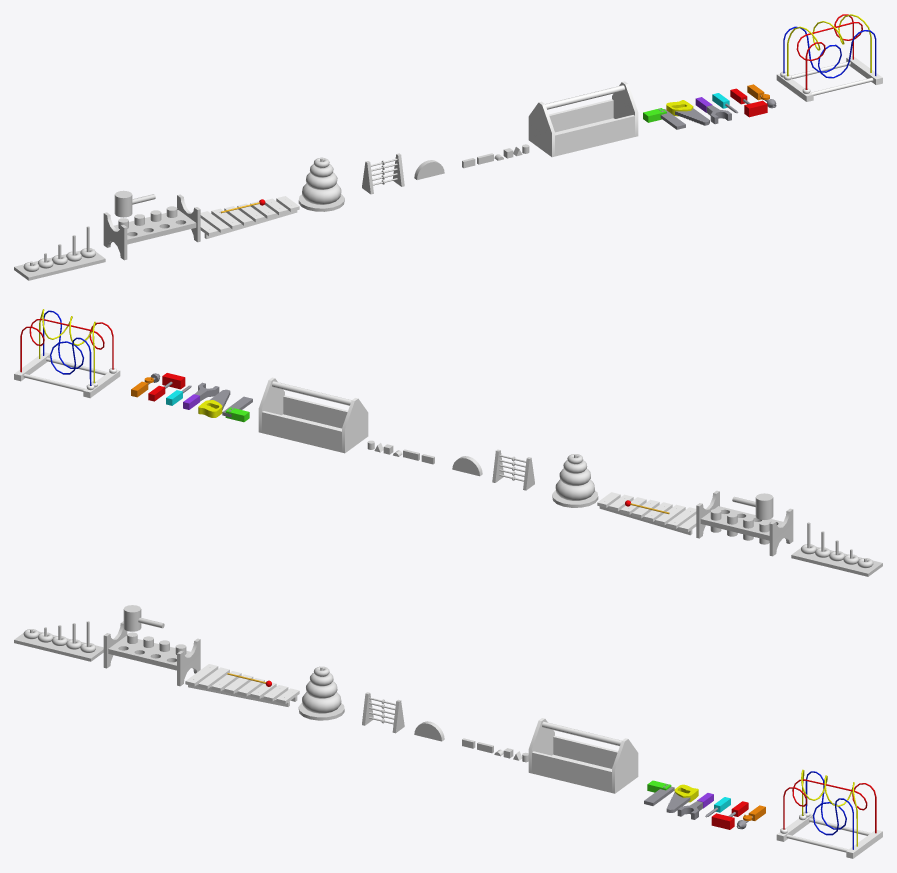
File: BabyToys_low.fbx
The picture shows the model from 3 angles, top to bottom: view 1: azimuth 30°, elevation 25°; view 2: azimuth 150°, elevation 25°; view 3: azimuth 330°, elevation 25°; orthographic projection.
Parts seen in each view (by area): view 1: Tool_Box_Parts_low, Tool_Box_low, Wire_Maze_Wires_low, Hammer_Bench_Parts_low, Hammer_Bench_low, Stacker_Small_low, Wire_Maze_low, Hammer_Bench_Hammer_low, Stacker_Large_Counter_1_low, Saw_low, Abacus_low, Wire_Maze_Parts_low; view 2: Tool_Box_Parts_low, Tool_Box_low, Wire_Maze_Wires_low, Hammer_Bench_low, Stacker_Small_low, Hammer_Bench_Parts_low, Wire_Maze_low, Hammer_Bench_Hammer_low, Stacker_Large_Counter_1_low, Abacus_low, Saw_low, Wire_Maze_Parts_low; view 3: Tool_Box_Parts_low, Tool_Box_low, Wire_Maze_Wires_low, Hammer_Bench_Parts_low, Stacker_Small_low, Hammer_Bench_low, Wire_Maze_low, Stacker_Large_Counter_1_low, Hammer_Bench_Hammer_low, Abacus_low, Saw_low, Wire_Maze_Parts_low (+1 smaller).
Part boxes in pixels (x1,y1,x2,y2): Tool_Box_Parts_low: (549,99,634,156); Tool_Box_low: (528,81,638,157); Wire_Maze_Wires_low: (783,14,876,89); Hammer_Bench_Parts_low: (114,210,196,244); Hammer_Bench_low: (103,194,200,260); Stacker_Small_low: (14,226,105,280); Wire_Maze_low: (776,56,882,101); Hammer_Bench_Hammer_low: (114,190,155,217); Stacker_Large_Counter_1_low: (302,183,341,204); Saw_low: (666,100,709,125); Abacus_low: (362,153,404,194); Wire_Maze_Parts_low: (791,61,873,95); Tool_Box_Parts_low: (262,395,347,452); Tool_Box_low: (258,377,368,453); Wire_Maze_Wires_low: (20,309,113,385); Hammer_Bench_low: (696,490,793,556); Stacker_Small_low: (791,522,882,576); Hammer_Bench_Parts_low: (700,506,782,540); Wire_Maze_low: (14,352,120,398); Hammer_Bench_Hammer_low: (732,493,773,519); Stacker_Large_Counter_1_low: (555,479,594,500); Abacus_low: (492,449,534,490); Saw_low: (198,389,230,417); Wire_Maze_Parts_low: (23,357,107,391); Tool_Box_Parts_low: (532,735,617,792); Tool_Box_low: (528,718,638,793); Wire_Maze_Wires_low: (783,769,876,849); Hammer_Bench_Parts_low: (108,636,190,670); Stacker_Small_low: (14,621,103,661); Hammer_Bench_low: (103,621,200,686); Wire_Maze_low: (776,813,882,858); Stacker_Large_Counter_1_low: (302,692,341,713); Hammer_Bench_Hammer_low: (123,605,164,631); Abacus_low: (362,692,404,733); Saw_low: (666,784,698,812); Wire_Maze_Parts_low: (786,818,870,852).
Size of the model in its own units: 550 by 37.98 by 38.45.
